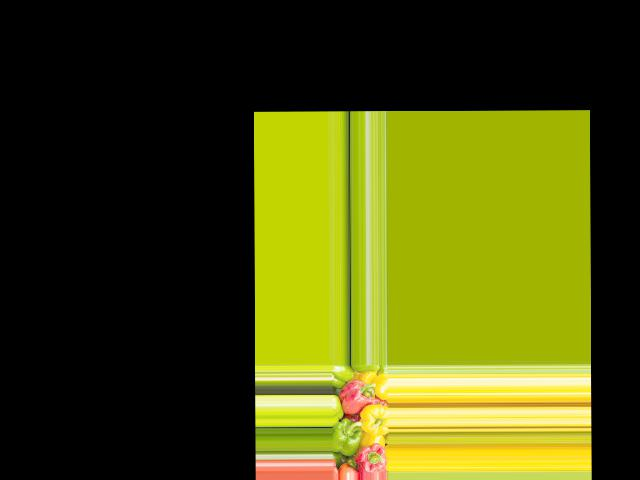bell_pepper: (354, 439, 387, 472)
